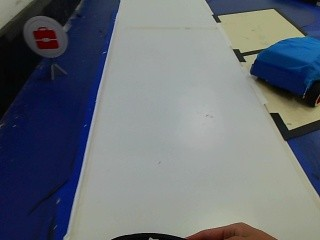company: (20, 16, 68, 55)
